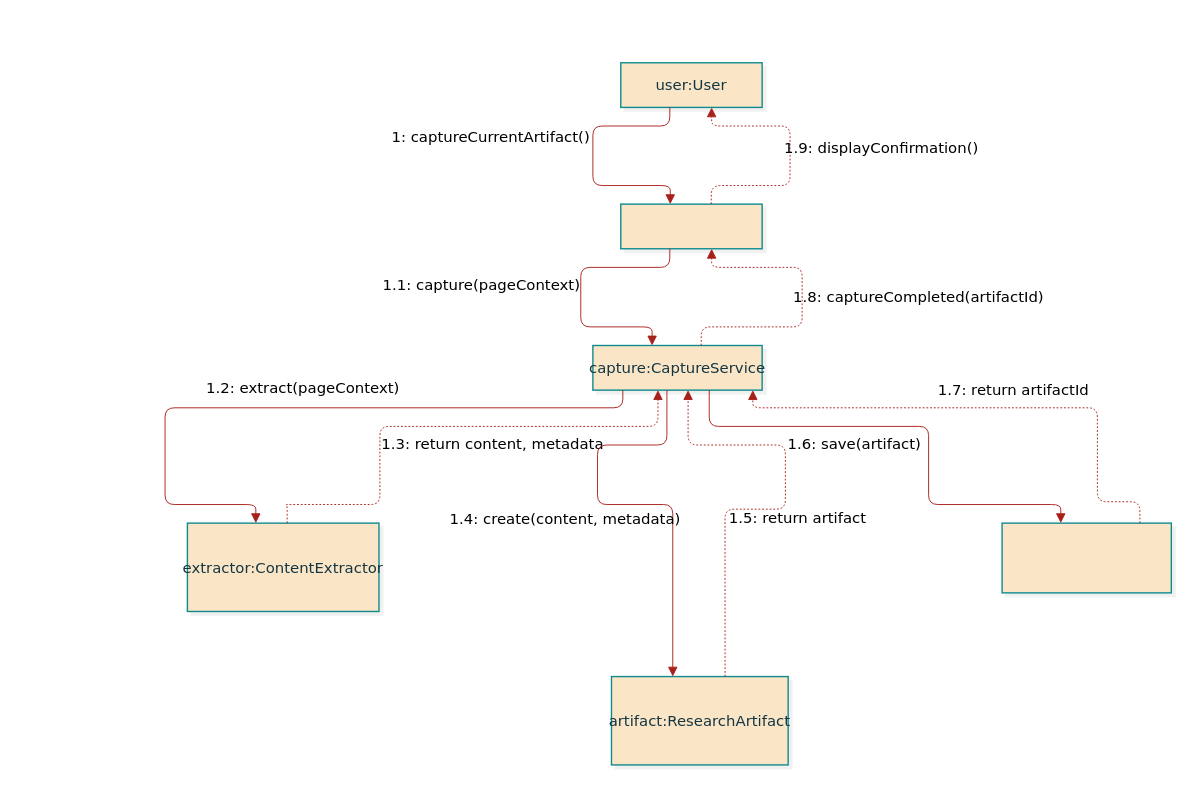
Image size: 1191x785. Some labels were removed from this diagram. Here are the shapes that lost their labels. From the top down, the centre of each, then its label:
At pixel 693 228: "browser:BrowserUI".
At pixel 1088 559: "store:LocalArtifactStore".
